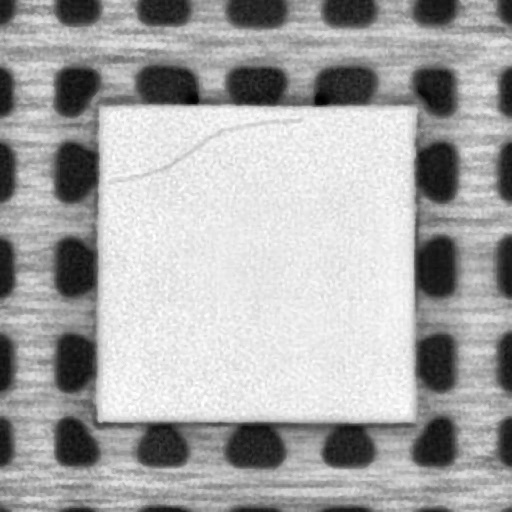DIE_CRACK: (107, 116, 302, 184)
